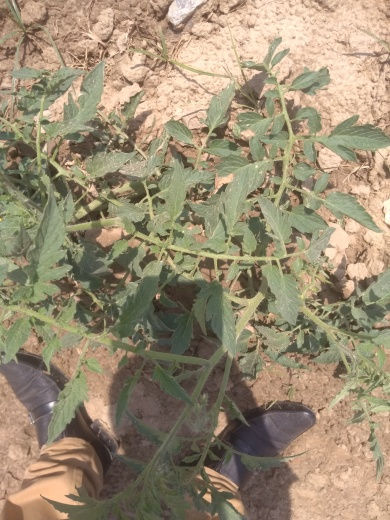tomato plant: (8, 85, 371, 352)
